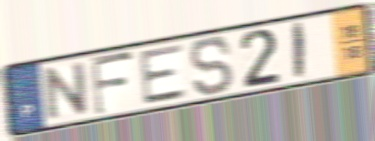2: (239, 28, 284, 91)
E: (137, 41, 191, 108)
F: (88, 49, 138, 118)
I: (292, 20, 307, 83)
N: (43, 59, 91, 124)
S: (188, 35, 237, 99)
